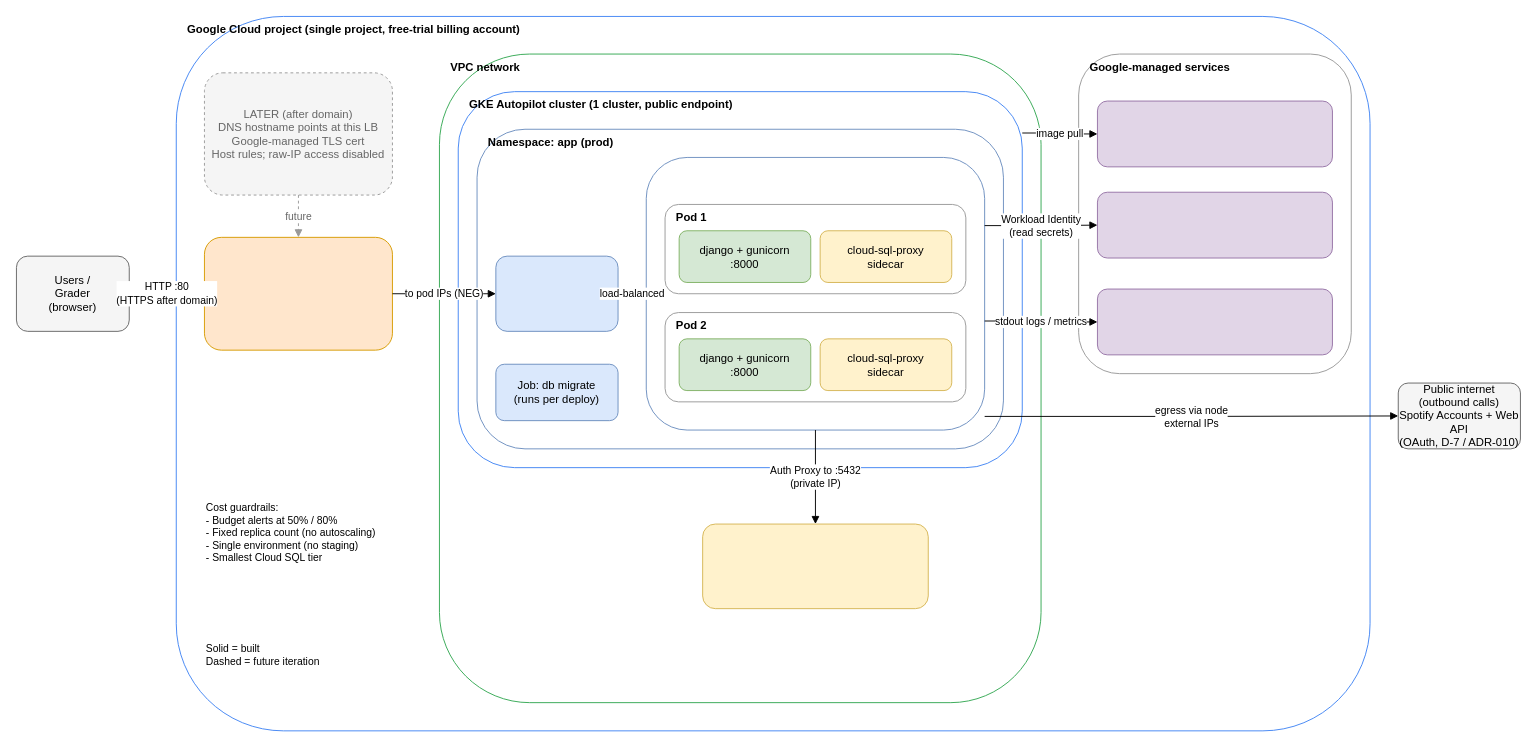
This 1537x747 diagram has some shape labels left out. The shapes that lost their labels are listed below. From the top down, each one's box as (x1, y1, x2, y2) in pixels, then its label:
(1097, 100, 1332, 167): Artifact Registry (container images)
(1097, 191, 1332, 258): Secret Manager (Django SECRET_KEY, DB password)
(204, 236, 392, 350): External HTTP(S) Load Balancer (GKE Gateway / Ingress) Reserved static IP, :80
(495, 255, 618, 331): Service (ClusterIP) container-native LB (NEG)
(645, 157, 985, 430): Deployment: django-app 2 replicas, rolling update, PodDisruptionBudget
(1097, 288, 1332, 355): Cloud Logging / Monitoring
(702, 523, 928, 609): Cloud SQL for PostgreSQL private IP, backups on no HA (cost)
